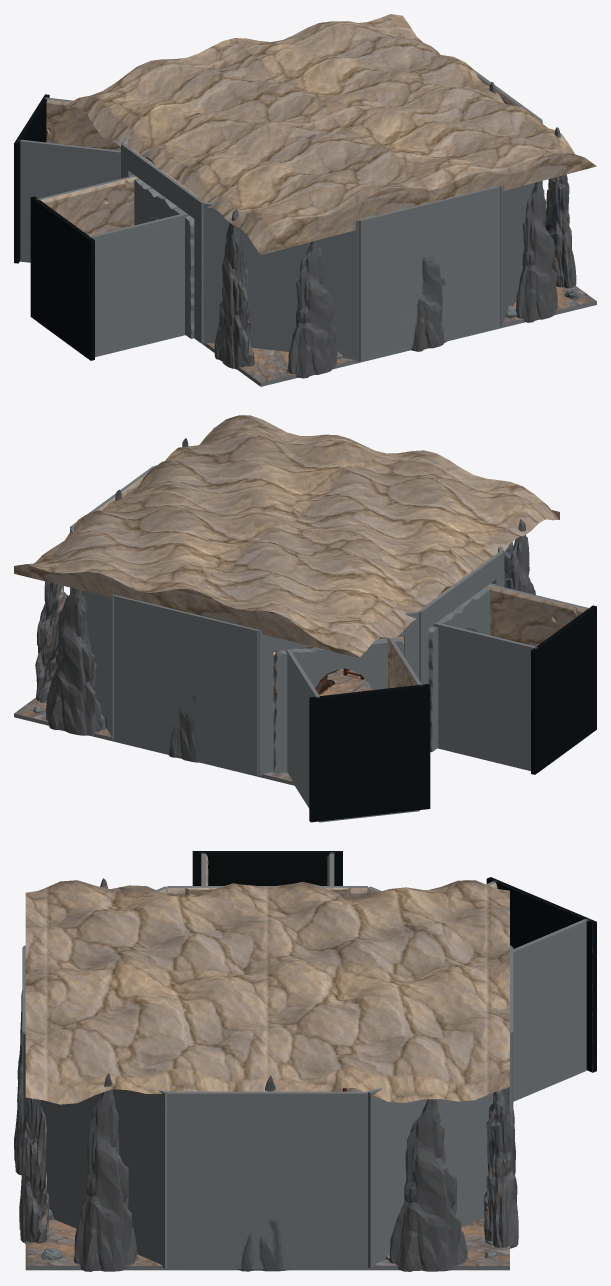
File: room.glb
3 renders of one model, top to bottom at view 1: azimuth 30°, elevation 25°; view 2: azimuth 150°, elevation 25°; view 3: azimuth 270°, elevation 25°, orthographic. The views are drawn at different scales.
Visible parts, largest first — view 1: TEA-ROOM; view 2: TEA-ROOM; view 3: TEA-ROOM.
Boxes of the visible parts, box(x1,y1,x2,y2) form: TEA-ROOM: box(14, 14, 596, 386); TEA-ROOM: box(14, 415, 596, 822); TEA-ROOM: box(14, 851, 596, 1271).
Size of the model in its own units: 13.18 by 4.79 by 12.03.
Materials: 1 (1 with a texture image).
